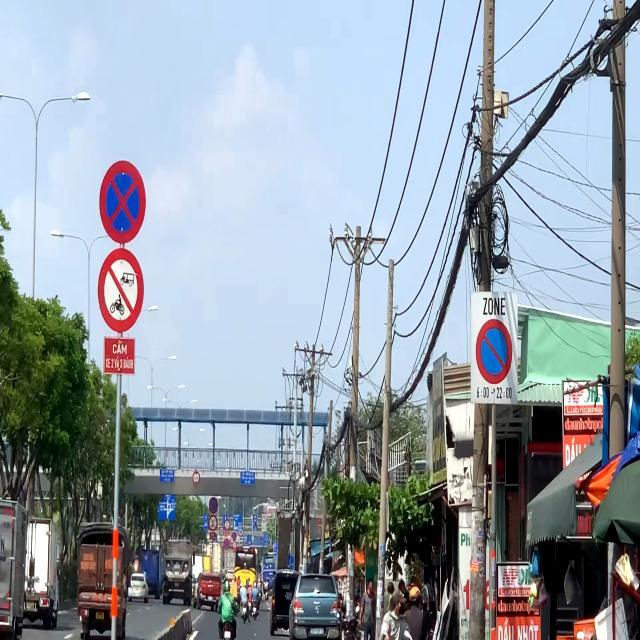Cam do xe: (476, 316, 514, 384)
Cam dung xe va do xe: (98, 157, 148, 246)
